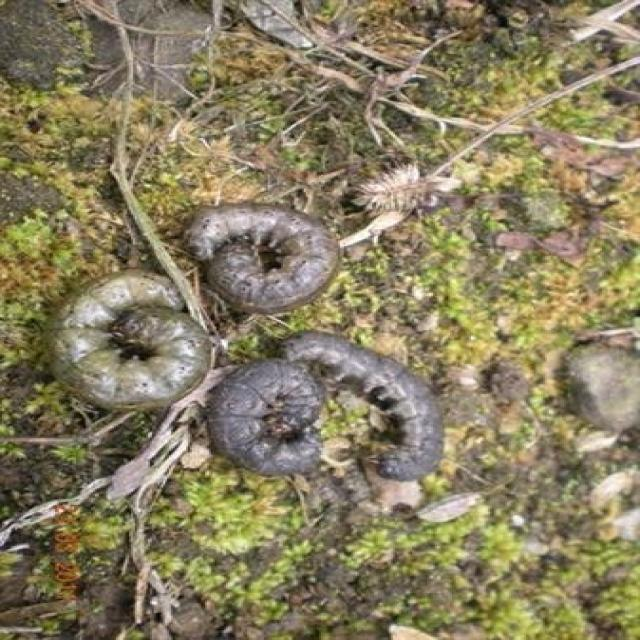black cutworm: (52, 262, 223, 431), (280, 331, 455, 486), (189, 191, 349, 320), (212, 360, 329, 488)
